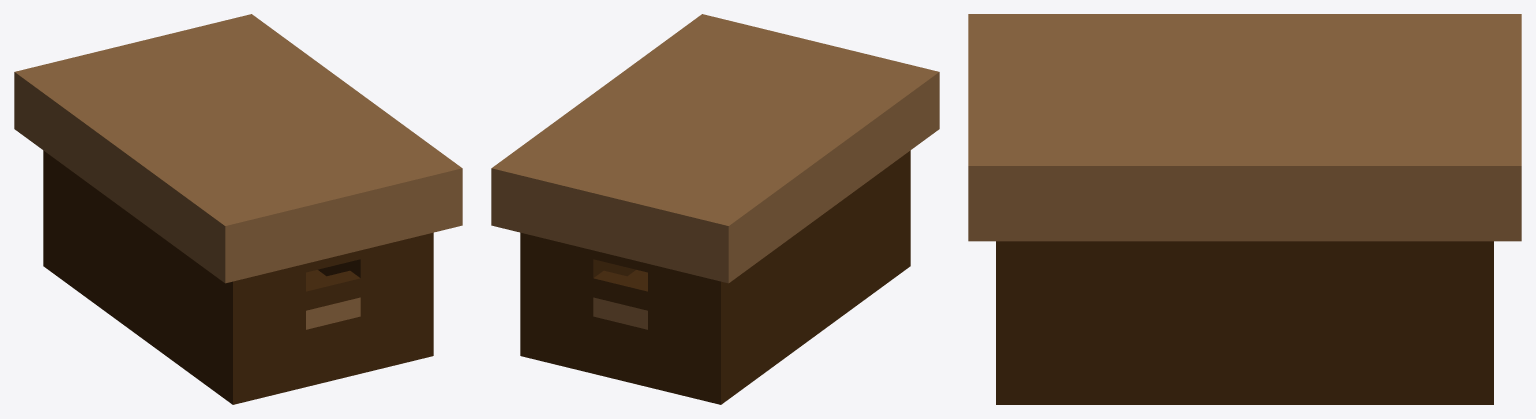
File: Boite.obj
3 renders of one model, left to right at view 1: azimuth 30°, elevation 25°; view 2: azimuth 150°, elevation 25°; view 3: azimuth 270°, elevation 25°, orthographic. The views are drawn at different scales.
Visible parts, largest first — view 1: Boite; view 2: Boite; view 3: Boite.
Part boxes in pixels (x1=…): Boite: x1=14, y1=14, x2=462, y2=404; Boite: x1=491, y1=14, x2=939, y2=404; Boite: x1=968, y1=14, x2=1521, y2=404.
Size of the model in its own units: 13 by 10 by 20.
Materials: 1 (1 with a texture image).
